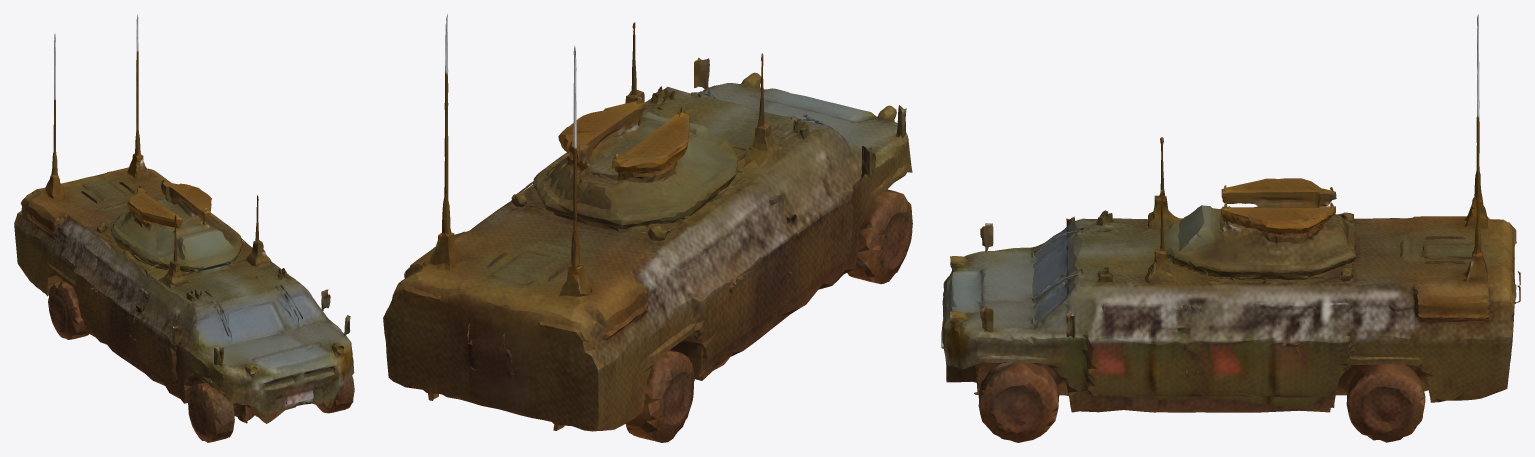
File: Dongfeng_Mengshi_CSK181.glb
3 views of the same model, side by side, from view 1: azimuth 30°, elevation 25°; view 2: azimuth 150°, elevation 25°; view 3: azimuth 270°, elevation 25° (orthographic). The views are drawn at different scales.
Parts seen in each view (by area): view 1: model; view 2: model; view 3: model.
Boxes of the visible parts, box(x1,y1,x2,y2) form: model: box(14, 14, 354, 442); model: box(383, 14, 912, 442); model: box(941, 14, 1520, 442).
Size of the model in its own units: 0.7733 by 1.3 by 1.9.
Materials: 1 (1 with a texture image).
